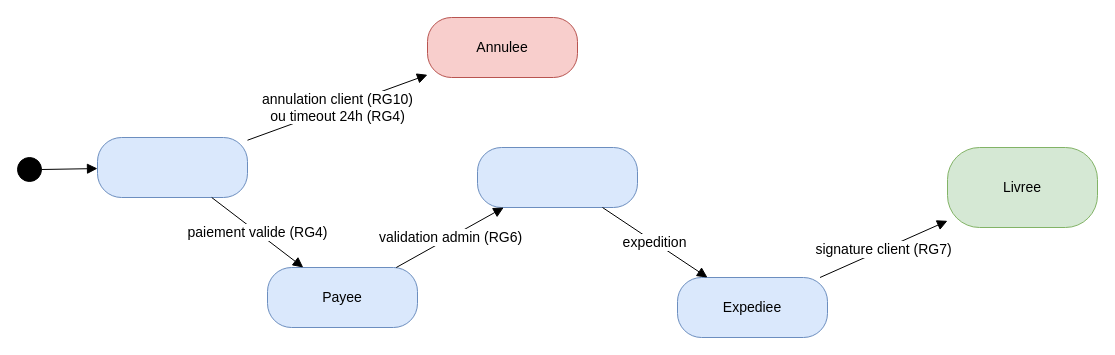
Image size: 1115x355. Some labels were removed from this diagram. Here are the shapes that lost their labels. From the top down, the centre of each, then its label:
At [172,167]: "EnAttente".
At [557,177]: "EnPreparation".
